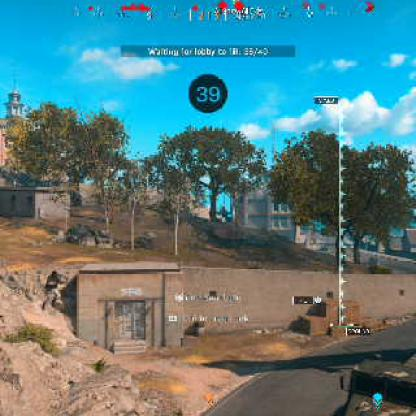enemy: (40, 269, 61, 308)
